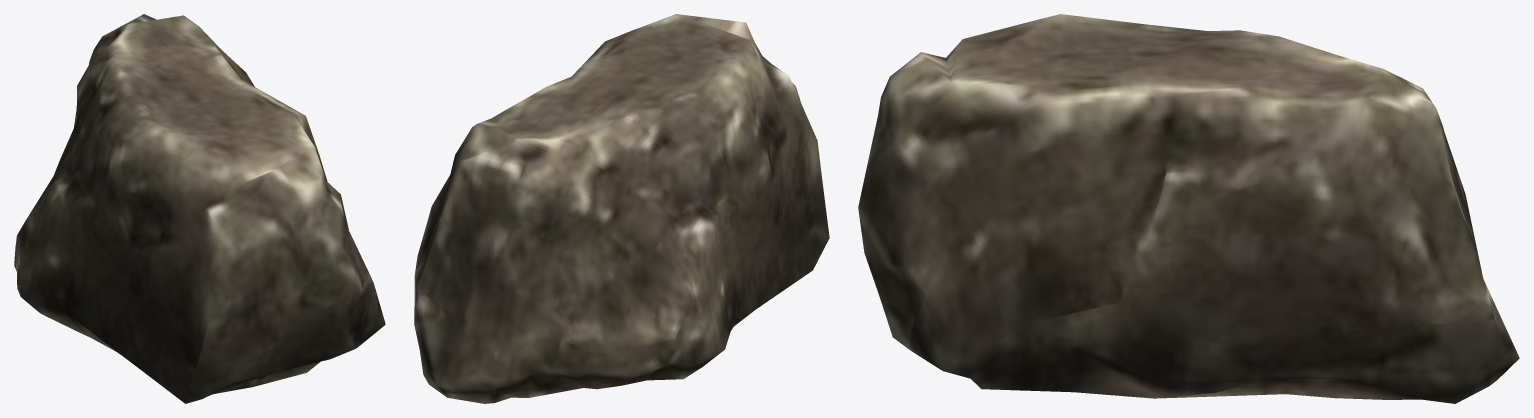
File: ShiTou_6.fbx
3 renders of one model, left to right at view 1: azimuth 30°, elevation 25°; view 2: azimuth 150°, elevation 25°; view 3: azimuth 270°, elevation 25°, orthographic. The views are drawn at different scales.
Visible parts, largest first — view 1: SM_RP_Vol_01_17; view 2: SM_RP_Vol_01_17; view 3: SM_RP_Vol_01_17.
Part boxes in pixels (x1,y1,x2,y2): SM_RP_Vol_01_17: (14, 14, 385, 403); SM_RP_Vol_01_17: (414, 14, 829, 403); SM_RP_Vol_01_17: (858, 14, 1519, 403).
Size of the model in its own units: 22.28 by 20.65 by 41.38.
